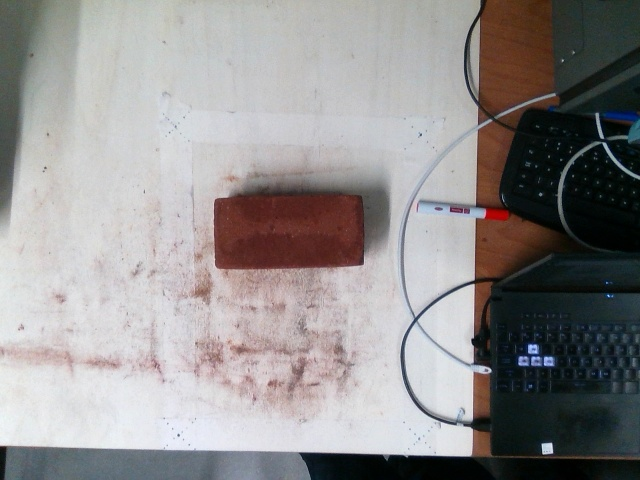brick: (213, 197, 364, 268)
